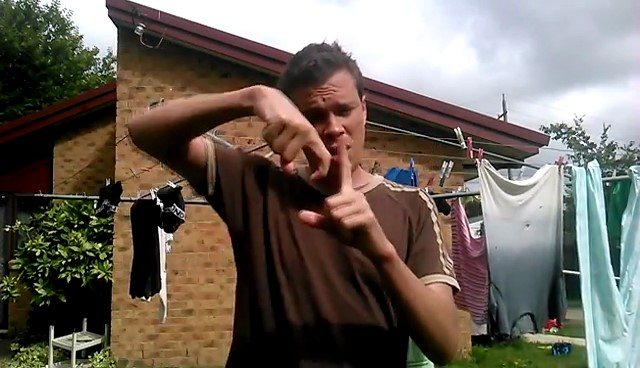K: (234, 79, 393, 260)
